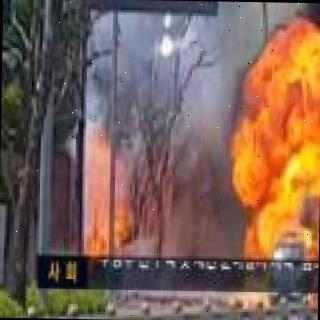fire: (239, 33, 320, 265)
